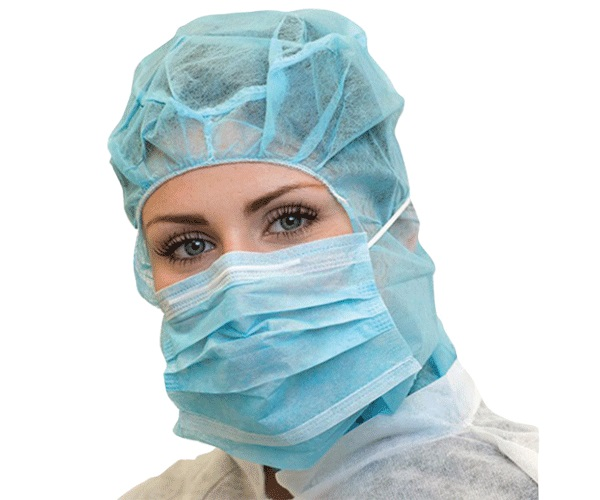with_mask_and_cap: (119, 14, 377, 451)
